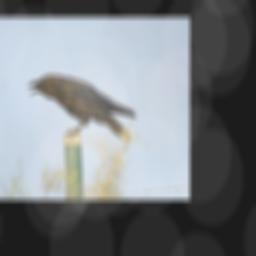Crow: (25, 71, 139, 141)
